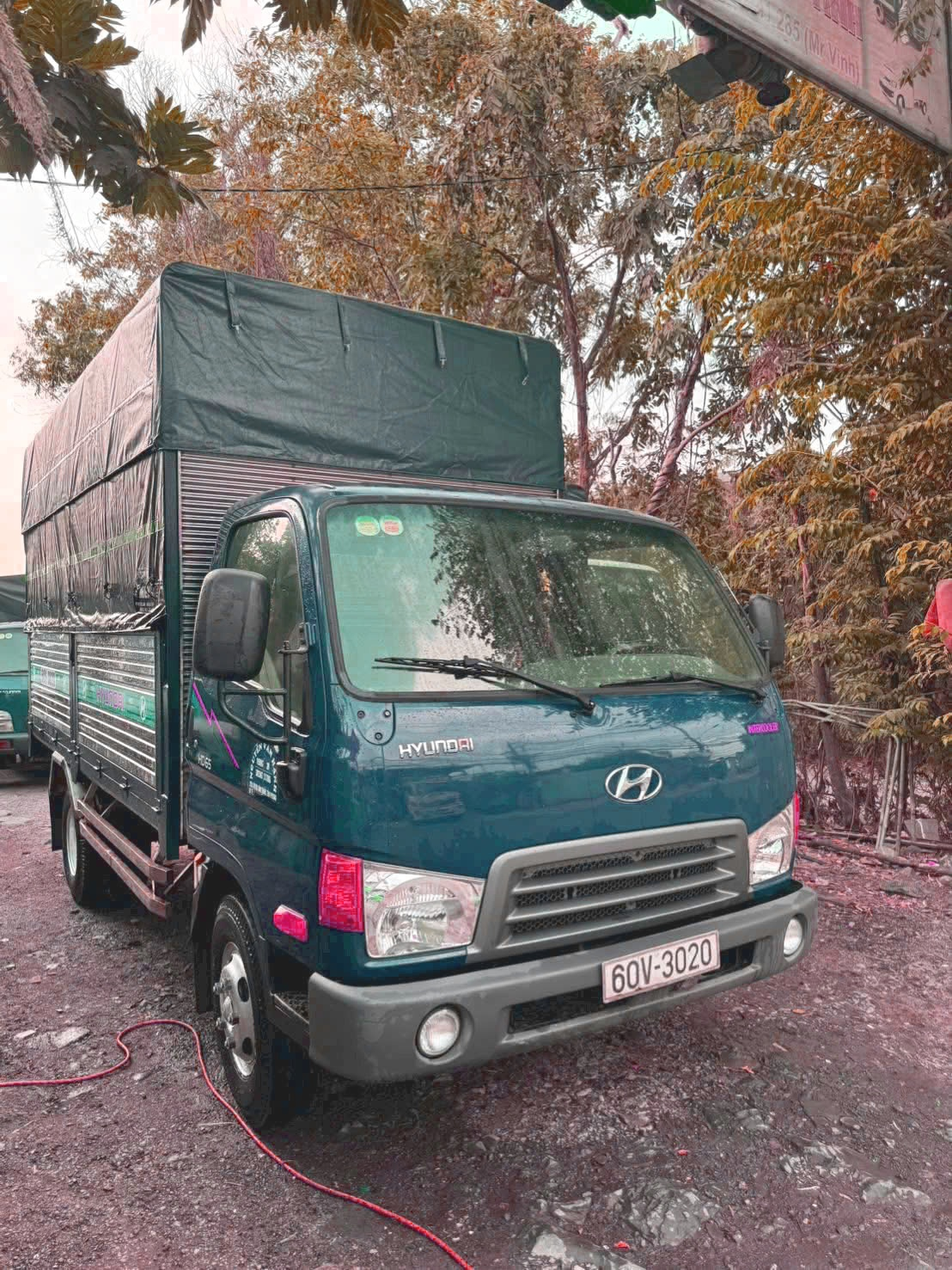Bien-so: (573, 906, 693, 980)
